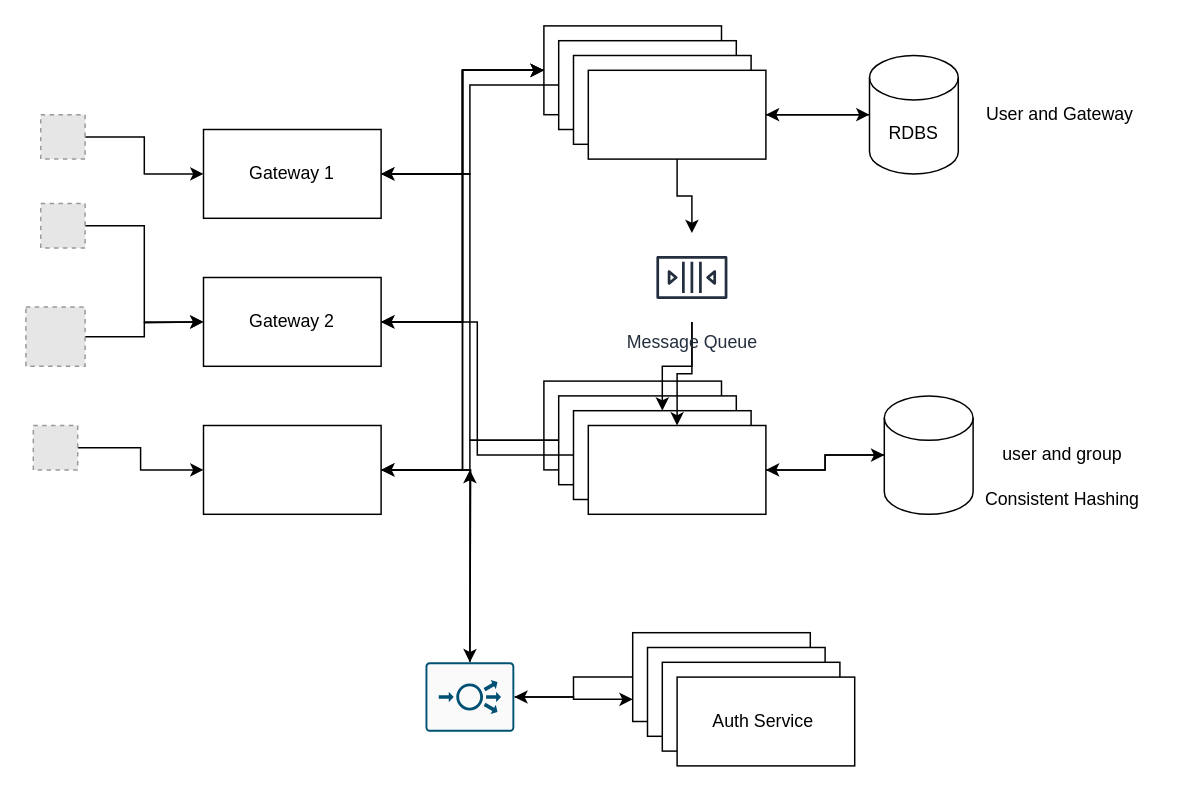
The diagram is 1177 pixels wide and 792 high, and some of its shapes have lost their labels. Grey dashed boxes stand in for pictures. Here are the shapes that lost their labels. From the top down, the centre of each, then its label:
At pixel 676 114: "Routing Service".
At pixel 291 469: "Gateway 3".
At pixel 676 469: "Group Service".
